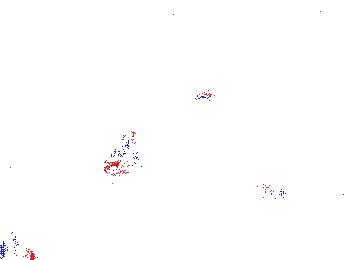red belly glassfish: (103, 130, 139, 178), (1, 235, 39, 260), (192, 88, 238, 106)
redtail glassfish: (252, 171, 346, 228)
